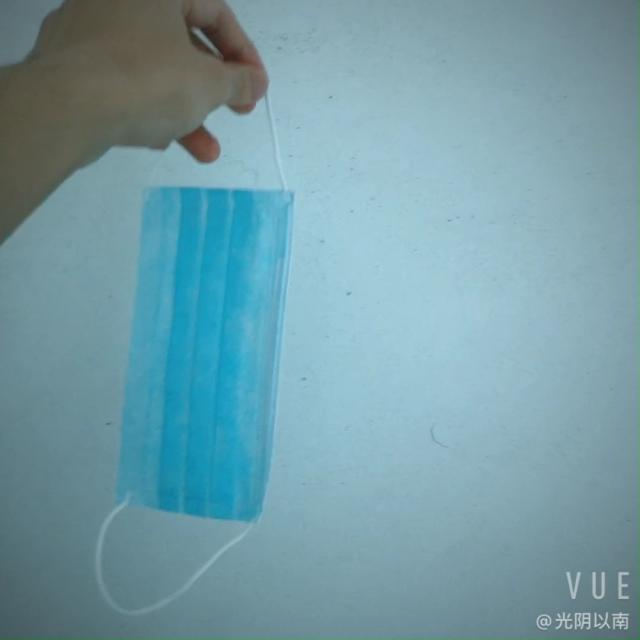face mask: (107, 182, 301, 518)
